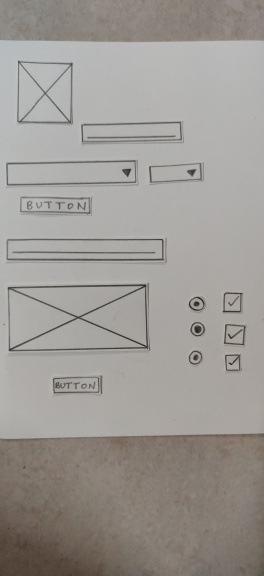button: (16, 193, 94, 219), (49, 373, 104, 397)
checkbox: (220, 321, 248, 348), (220, 289, 245, 316), (222, 350, 245, 376)
dropdown: (3, 158, 139, 187), (145, 162, 208, 185)
img: (5, 281, 152, 354), (13, 56, 76, 129)
radio: (186, 294, 207, 313), (186, 346, 204, 367), (188, 320, 207, 338)
text: (3, 235, 169, 267), (79, 119, 184, 145)
